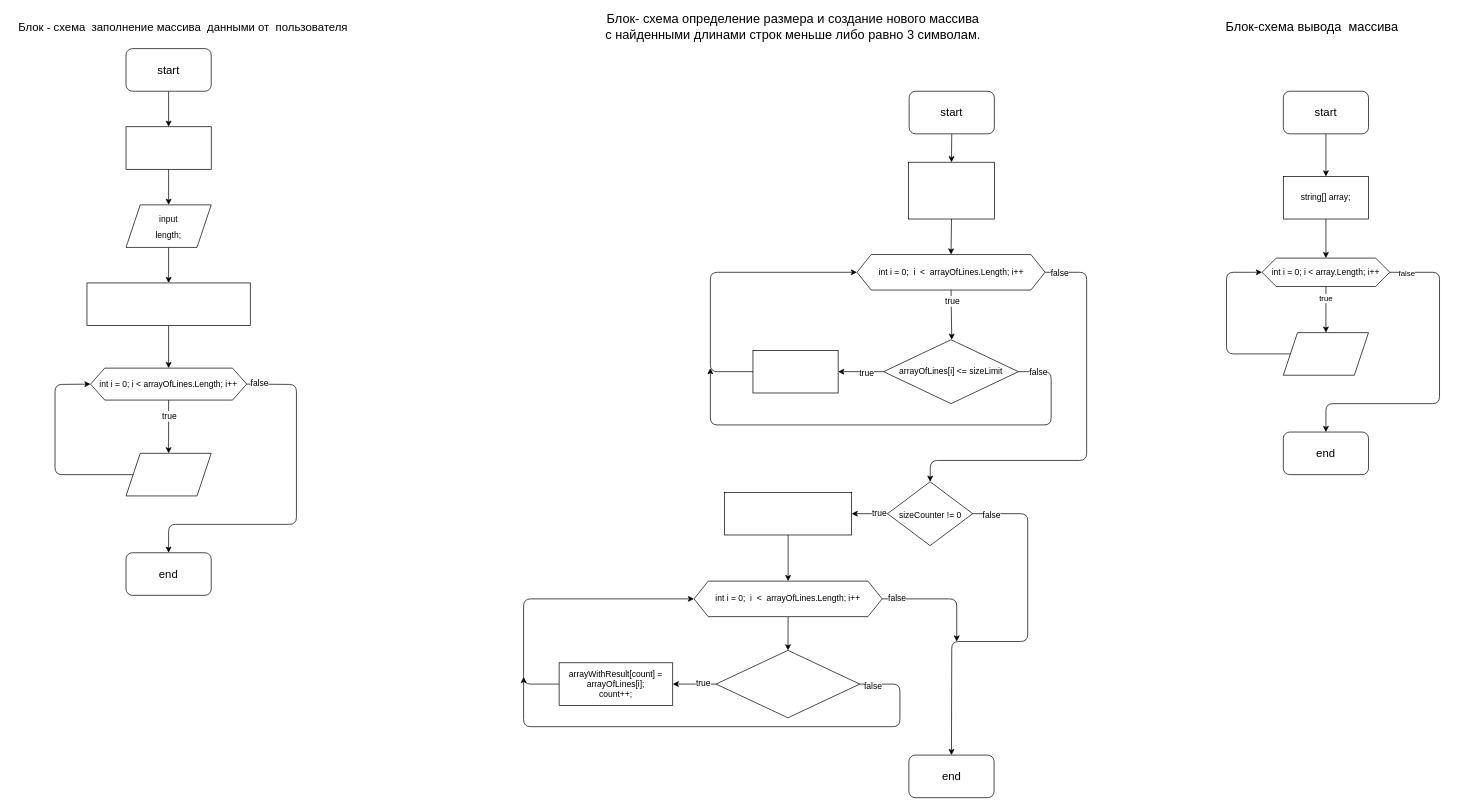
This 1458x810 diagram has some shape labels left out. The shapes that lost their labels are listed below. From the top down, each one's centre as x and y in pixels, then its label:
At (168,147): "int length;".
At (951,190): "arrayOfLines[length]; int sizeCounter = 0; int sizeLimit = 3;".
At (168,304): "string[] arrayOfLines = new string[length];".
At (795,371): "sizeCounter++;".
At (1326,353): "output array[i];".
At (168,474): "input arrayOfLines[i];".
At (788,513): "string[] arrayWithResult = new string[sizeCounter]; int count = 0;".
At (787,684): "arrayOfLines[i].Length <= sizeLimit".
